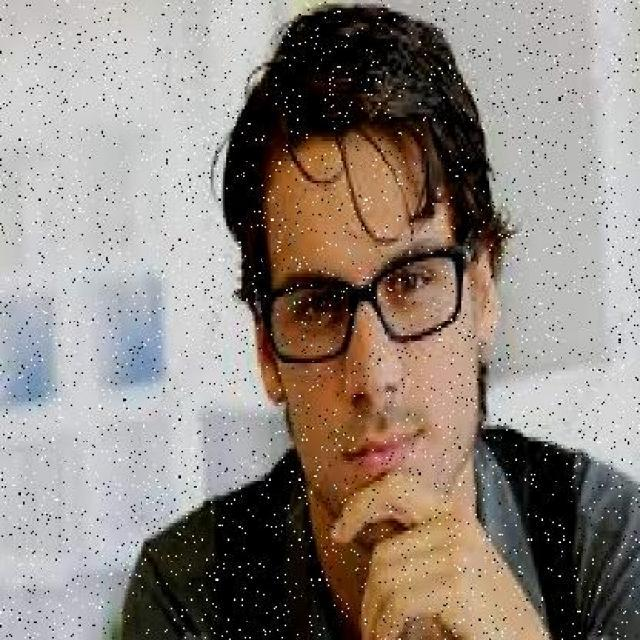mask: (266, 246, 472, 363)
